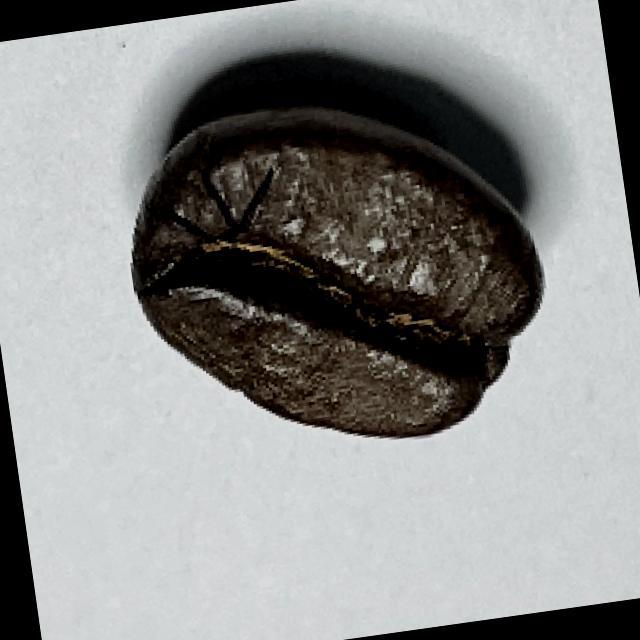bean: (105, 71, 568, 482)
